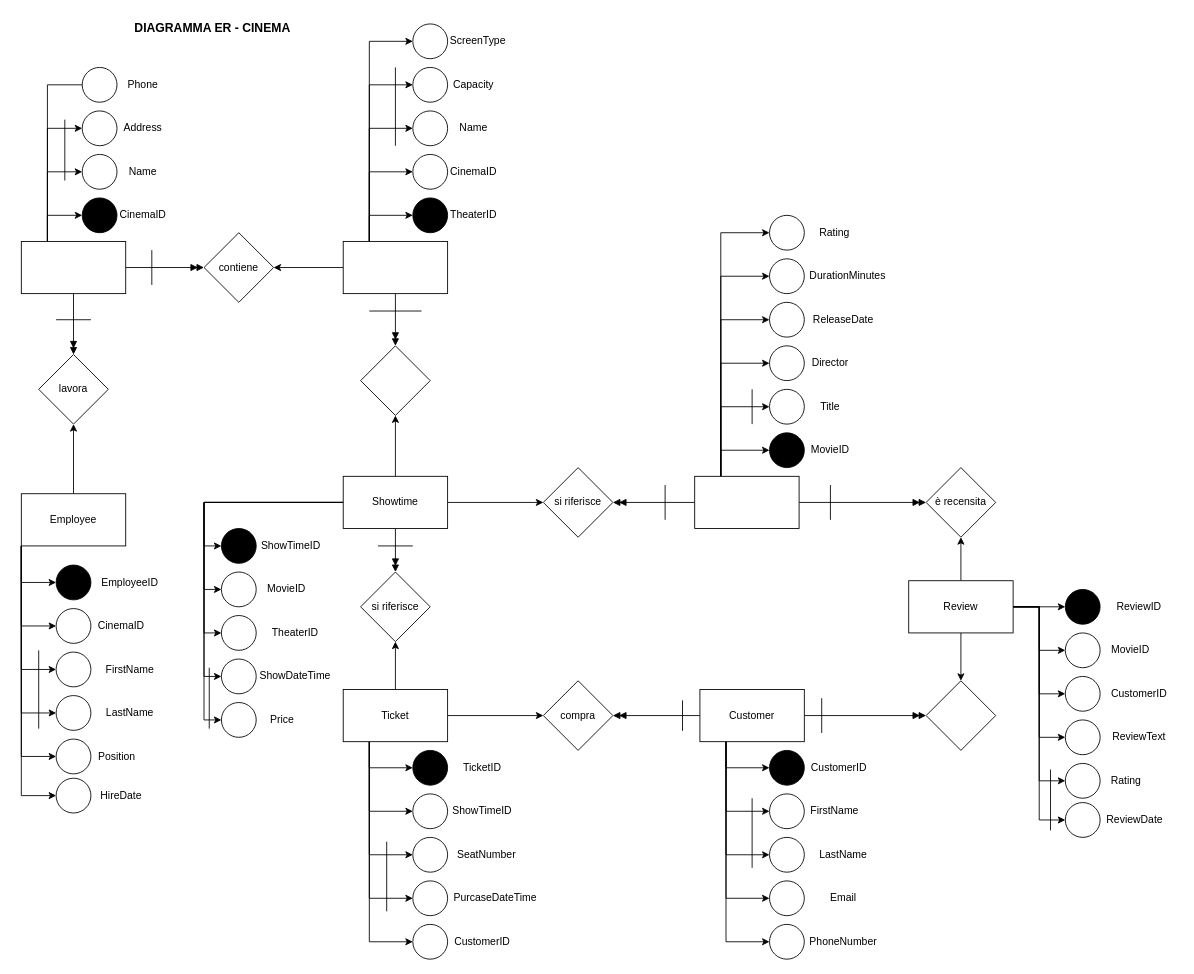
Image size: 1194x974. Some labels were removed from this diagram. The shapes that lost their labels are listed below. From the top down, each one's centre as x and y in pixels, then its label:
At (73,267): "Cinema".
At (395,267): "Theater".
At (395,380): "fa".
At (746,502): "Movie".
At (960,715): "descrive".
